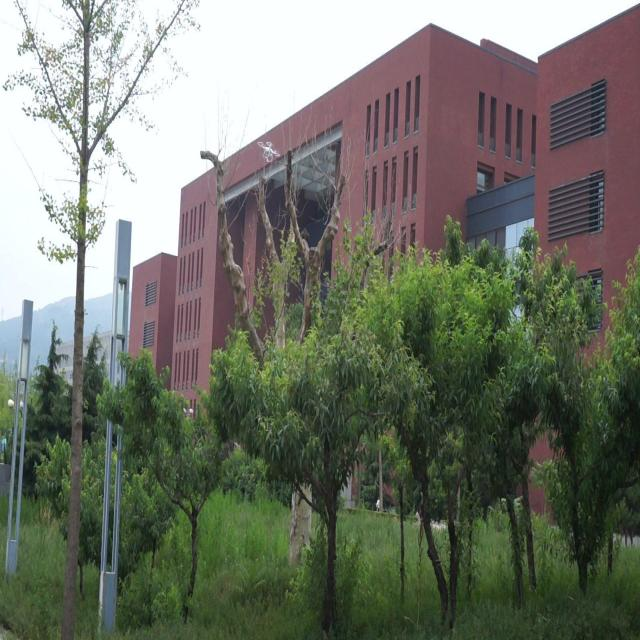UAV: (258, 142, 280, 162)
